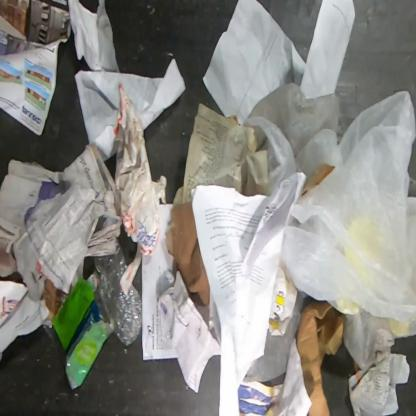cardboard: (296, 301, 358, 415)
rigid_plastic: (94, 237, 142, 349)
soft_plastic: (241, 87, 415, 371), (52, 268, 114, 390), (245, 81, 340, 158)
